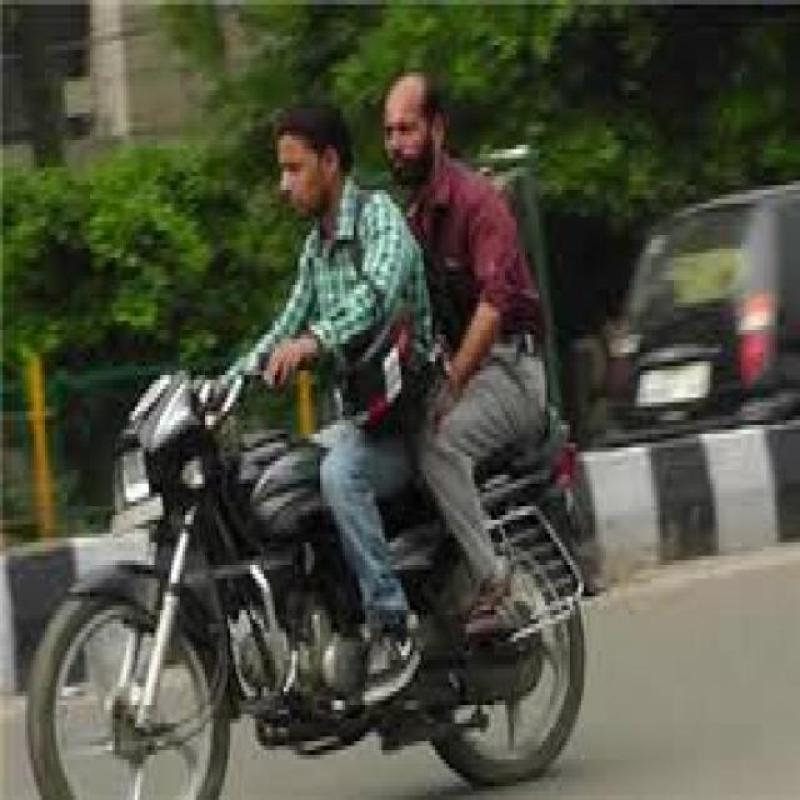nohelmet: (266, 99, 356, 229), (373, 60, 452, 186)
